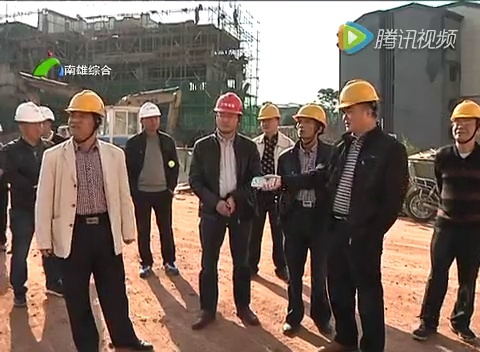red: (210, 90, 244, 135)
white: (12, 100, 42, 142), (138, 100, 160, 134), (37, 104, 54, 137)
yellow: (337, 77, 382, 133), (63, 86, 104, 144), (449, 97, 480, 144), (293, 104, 327, 144), (256, 101, 282, 136)
